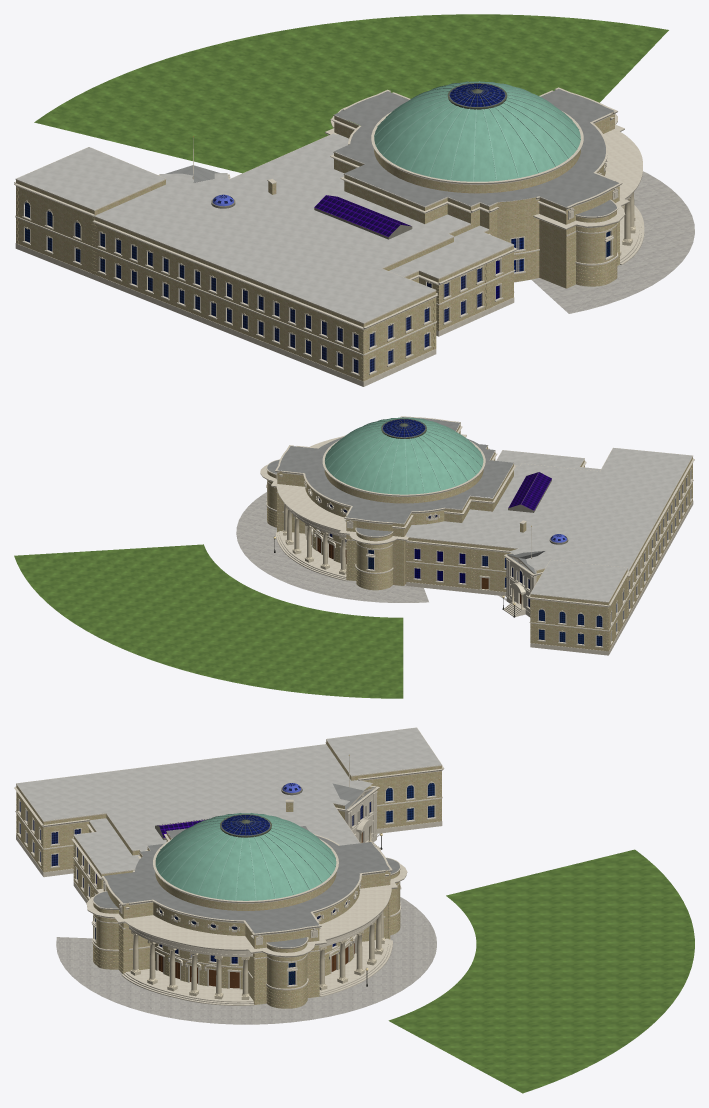
The model's file is convocation-hall.glb.
3 renders of one model, top to bottom at view 1: azimuth 30°, elevation 25°; view 2: azimuth 150°, elevation 25°; view 3: azimuth 270°, elevation 25°, orthographic. The views are drawn at different scales.
Visible parts, largest first — view 1: ConvocationHall_Roof, ConvocationHall_Lawn, ConvocationHall_Walls, ConvocationHall_Trim, ConvocationHall_Paving, ConvocationHall_Glass; view 2: ConvocationHall_Roof, ConvocationHall_Lawn, ConvocationHall_Walls, ConvocationHall_Trim, ConvocationHall_Paving, ConvocationHall_Glass; view 3: ConvocationHall_Lawn, ConvocationHall_Roof, ConvocationHall_Trim, ConvocationHall_Walls, ConvocationHall_Paving, ConvocationHall_Glass.
Part boxes in pixels (bbox=[...]): ConvocationHall_Roof: bbox=[16, 81, 618, 322]; ConvocationHall_Lawn: bbox=[34, 14, 668, 173]; ConvocationHall_Walls: bbox=[16, 113, 619, 381]; ConvocationHall_Trim: bbox=[14, 83, 644, 386]; ConvocationHall_Paving: bbox=[351, 158, 694, 313]; ConvocationHall_Glass: bbox=[25, 83, 523, 373]; ConvocationHall_Roof: bbox=[267, 417, 692, 601]; ConvocationHall_Lawn: bbox=[14, 544, 403, 698]; ConvocationHall_Walls: bbox=[267, 424, 692, 651]; ConvocationHall_Trim: bbox=[260, 416, 694, 655]; ConvocationHall_Paving: bbox=[236, 492, 506, 602]; ConvocationHall_Glass: bbox=[319, 419, 686, 646]; ConvocationHall_Lawn: bbox=[388, 849, 694, 1093]; ConvocationHall_Roof: bbox=[16, 727, 441, 947]; ConvocationHall_Trim: bbox=[14, 727, 444, 1005]; ConvocationHall_Walls: bbox=[16, 741, 441, 1008]; ConvocationHall_Paving: bbox=[56, 834, 436, 1024]; ConvocationHall_Glass: bbox=[19, 783, 434, 963].
Size of the model in its own units: 129 by 24.55 by 121.
9 materials, 7 textured.
